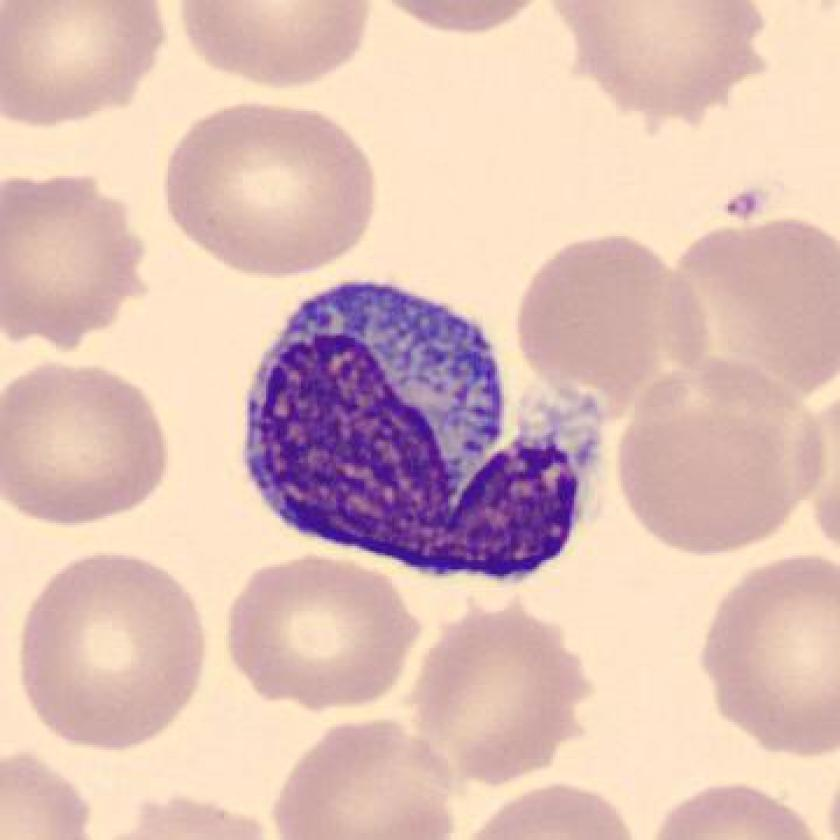monocyte: (225, 258, 638, 605)
